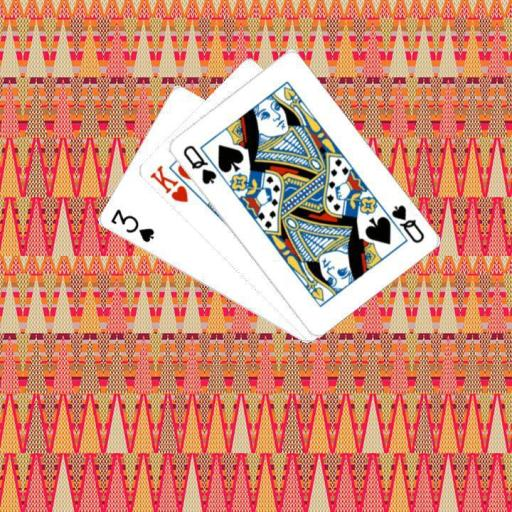card-corner: (106, 205, 156, 244), (146, 162, 190, 204), (180, 142, 218, 186), (388, 202, 425, 246)
